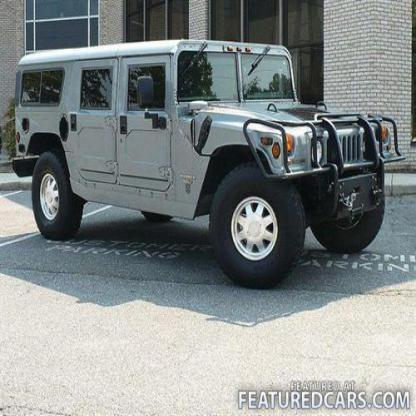Vehicle: (9, 34, 408, 295)
